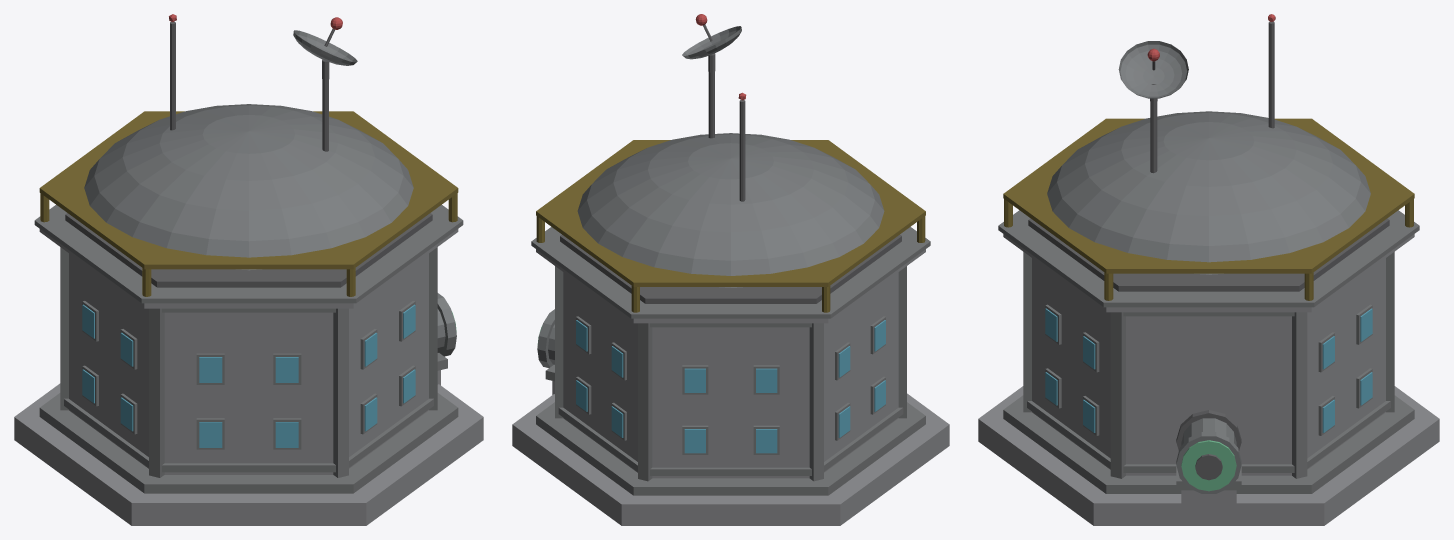
File: analysis_center_s2_ruin.glb
The picture shows the model from 3 angles, left to right: view 1: azimuth 30°, elevation 25°; view 2: azimuth 150°, elevation 25°; view 3: azimuth 270°, elevation 25°; orthographic projection. The views are drawn at different scales.
Visible parts, largest first — view 1: AC_Walls, AC_Dome, AC_Base, AC_Gallery_Rail, AC_BaseCap, AC_Gallery_Trim, AC_Dome_Base_Trim, AC_Band_Low, AC_Beam_3, AC_Beam_4, AC_Gallery_Base, AC_Beam_2 (+9 smaller); view 2: AC_Walls, AC_Dome, AC_Base, AC_Gallery_Rail, AC_BaseCap, AC_Gallery_Trim, AC_Dome_Base_Trim, AC_Band_Low, AC_Beam_1, AC_Beam_2, AC_Gallery_Base, AC_Beam_0 (+9 smaller); view 3: AC_Walls, AC_Dome, AC_Base, AC_Gallery_Rail, AC_Gallery_Trim, AC_BaseCap, AC_Dome_Base_Trim, AC_Dish, AC_Band_Low, AC_Beam_0, AC_Beam_5, AC_Gallery_Base (+11 smaller).
Part boxes in pixels (left/top/right/bottom): AC_Walls: left=69, top=253, right=428, bottom=474; AC_Dome: left=84, top=104, right=413, bottom=270; AC_Base: left=14, top=383, right=483, bottom=525; AC_Gallery_Rail: left=39, top=111, right=458, bottom=269; AC_BaseCap: left=39, top=393, right=458, bottom=493; AC_Gallery_Trim: left=34, top=205, right=463, bottom=303; AC_Dome_Base_Trim: left=65, top=213, right=432, bottom=287; AC_Band_Low: left=64, top=398, right=433, bottom=472; AC_Beam_3: left=149, top=308, right=164, bottom=477; AC_Beam_4: left=333, top=308, right=348, bottom=477; AC_Gallery_Base: left=39, top=229, right=458, bottom=308; AC_Beam_2: left=60, top=247, right=68, bottom=410; AC_Walls: left=563, top=272, right=898, bottom=478; AC_Dome: left=577, top=133, right=884, bottom=287; AC_Base: left=512, top=393, right=949, bottom=525; AC_Gallery_Rail: left=536, top=140, right=925, bottom=286; AC_BaseCap: left=536, top=402, right=925, bottom=495; AC_Gallery_Trim: left=531, top=227, right=930, bottom=318; AC_Dome_Base_Trim: left=560, top=235, right=901, bottom=303; AC_Band_Low: left=558, top=407, right=903, bottom=475; AC_Beam_1: left=638, top=323, right=652, bottom=481; AC_Beam_2: left=809, top=323, right=823, bottom=481; AC_Gallery_Base: left=536, top=249, right=925, bottom=323; AC_Beam_0: left=555, top=266, right=563, bottom=418; AC_Walls: left=1032, top=258, right=1385, bottom=475; AC_Dome: left=1047, top=111, right=1370, bottom=274; AC_Base: left=978, top=386, right=1439, bottom=525; AC_Gallery_Rail: left=1003, top=118, right=1414, bottom=273; AC_Gallery_Trim: left=998, top=210, right=1419, bottom=307; AC_BaseCap: left=1003, top=395, right=1414, bottom=493; AC_Dome_Base_Trim: left=1028, top=218, right=1389, bottom=291; AC_Dish: left=1118, top=41, right=1188, bottom=98; AC_Band_Low: left=1027, top=401, right=1390, bottom=472; AC_Beam_0: left=1292, top=312, right=1307, bottom=478; AC_Beam_5: left=1110, top=312, right=1125, bottom=478; AC_Gallery_Base: left=1003, top=234, right=1414, bottom=312.
Bounding box in the file's own units: 1.69 × 1.85 × 1.84.
